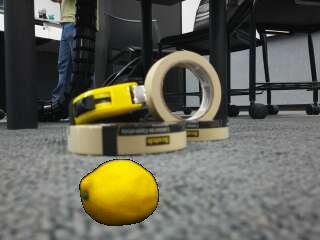lemon: (80, 161, 157, 226)
